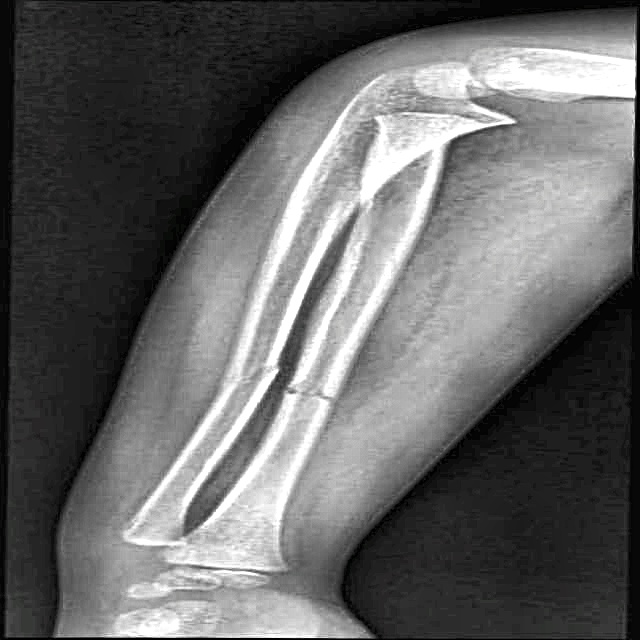Oblique Displaced: (205, 360, 293, 400)
Transverse Displaced: (271, 378, 360, 413)
